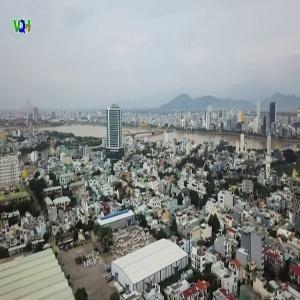drone: (146, 114, 251, 219)
